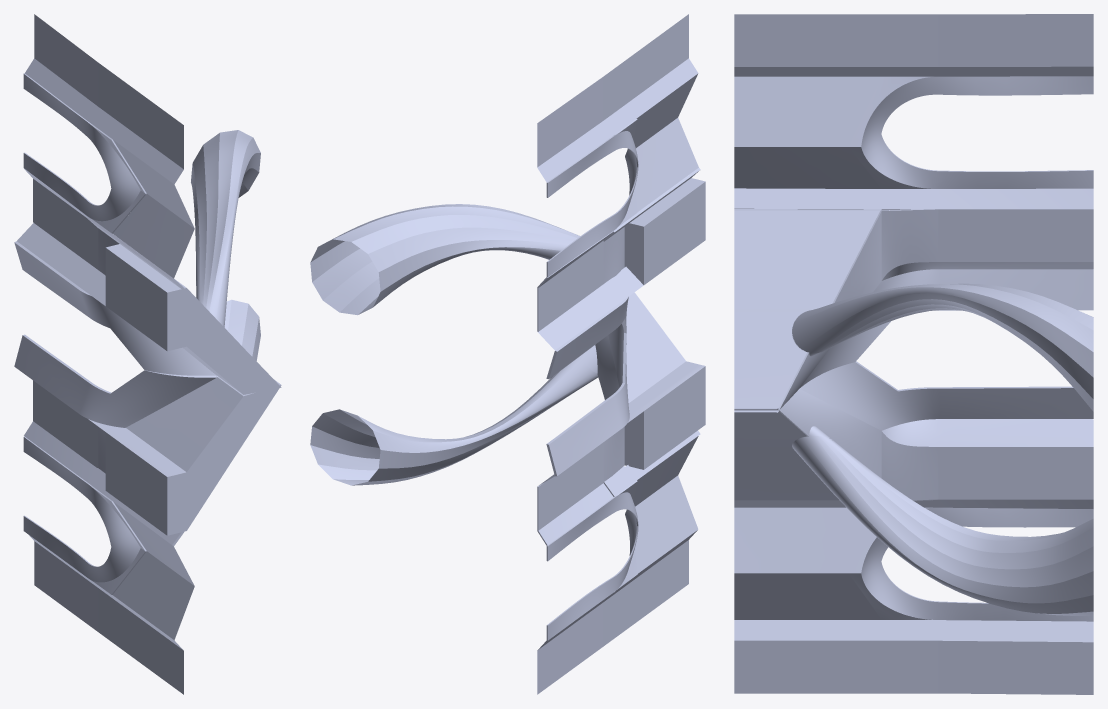
File: projet.glb
3 views of the same model, side by side, from view 1: azimuth 30°, elevation 25°; view 2: azimuth 150°, elevation 25°; view 3: azimuth 270°, elevation 25° (orthographic). The views are drawn at different scales.
Parts seen in each view (by area): view 1: main; view 2: main; view 3: main.
Boxes of the visible parts, <box> form: main: <box>14,14,281,694</box>; main: <box>310,14,705,694</box>; main: <box>734,14,1093,694</box>.
Bounding box in the file's own units: 2.05 × 4.54 × 2.17.
